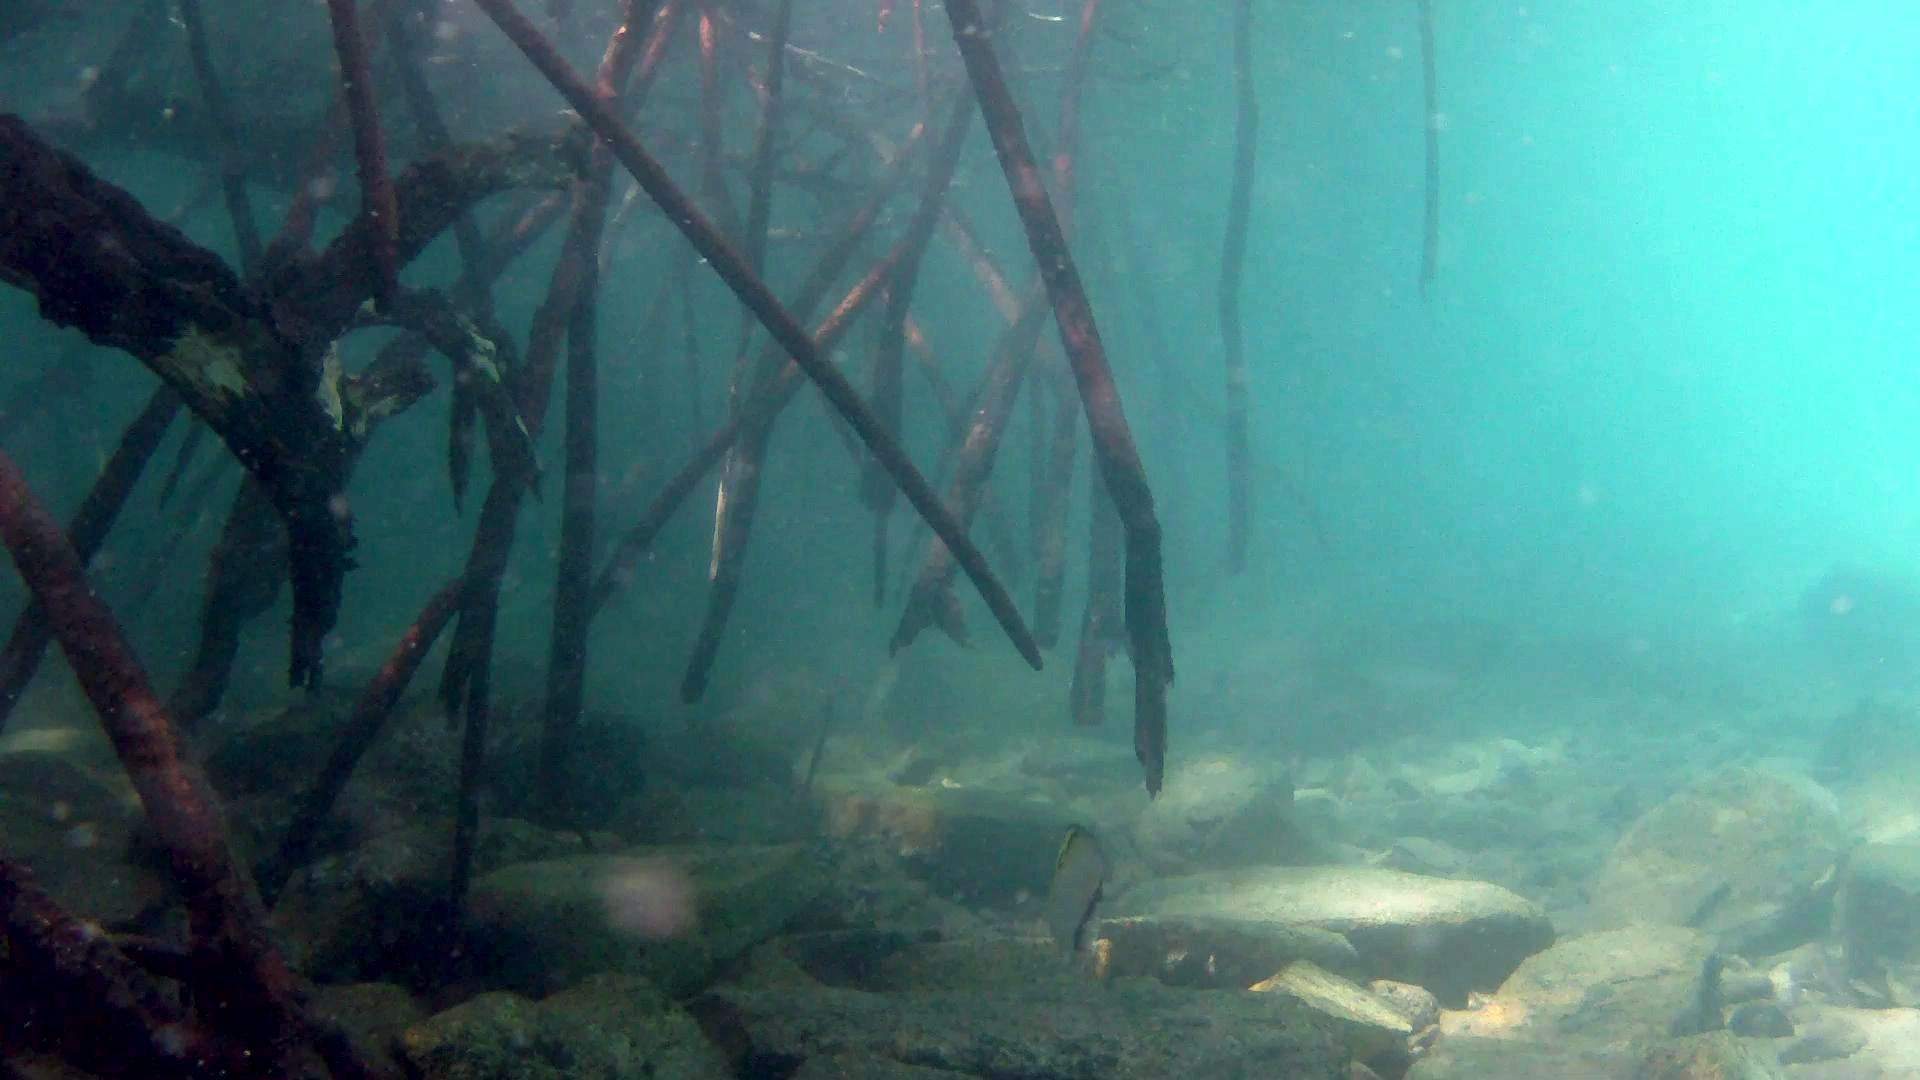chaetodon vagabundus: (1042, 819, 1112, 964)
